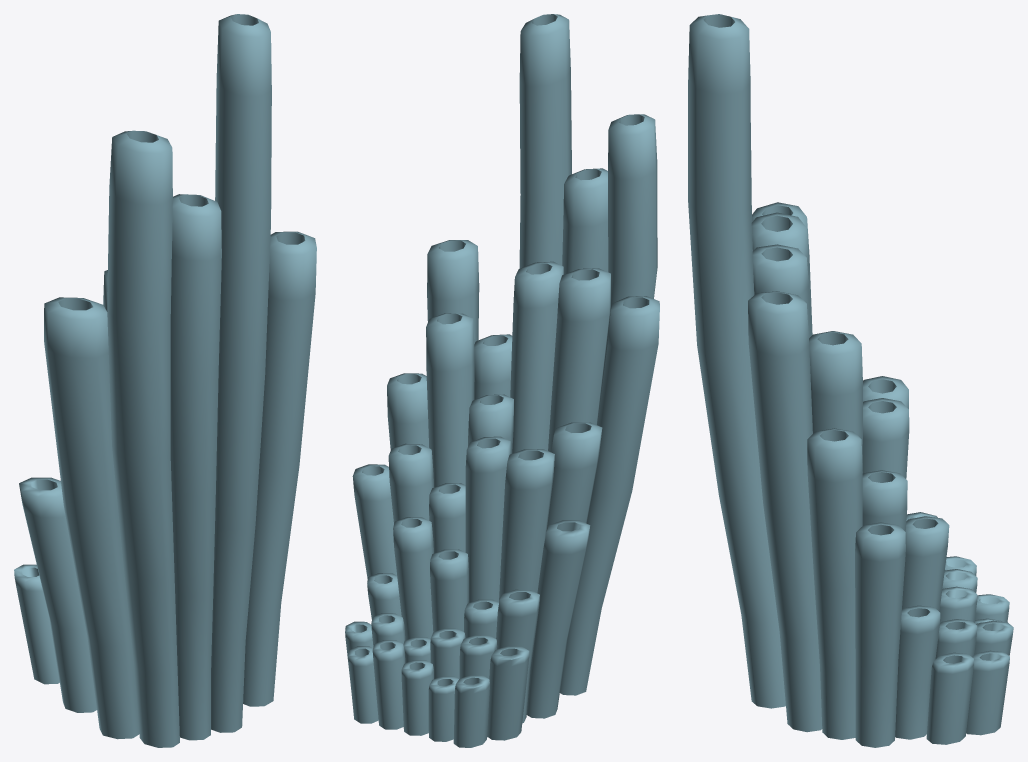
File: geo_obstacle_medium2.fbx
3 renders of one model, left to right at view 1: azimuth 30°, elevation 25°; view 2: azimuth 150°, elevation 25°; view 3: azimuth 270°, elevation 25°, orthographic. The views are drawn at different scales.
Parts seen in each view (by area): view 1: Tubular.002; view 2: Tubular.002; view 3: Tubular.002.
Boxes of the visible parts, box(x1,y1,x2,y2) form: Tubular.002: box(14, 14, 316, 747); Tubular.002: box(345, 14, 659, 747); Tubular.002: box(688, 14, 1013, 747).
Size of the model in its own units: 791 by 1836 by 798.
